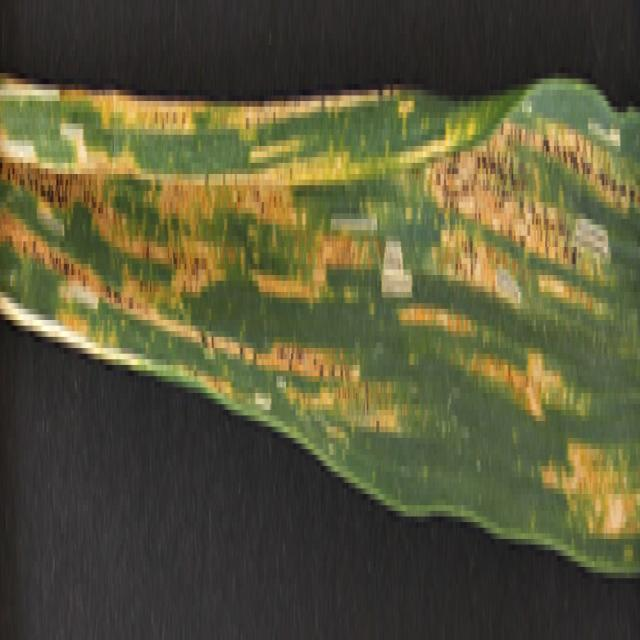leaf rust: (1, 34, 637, 561)
